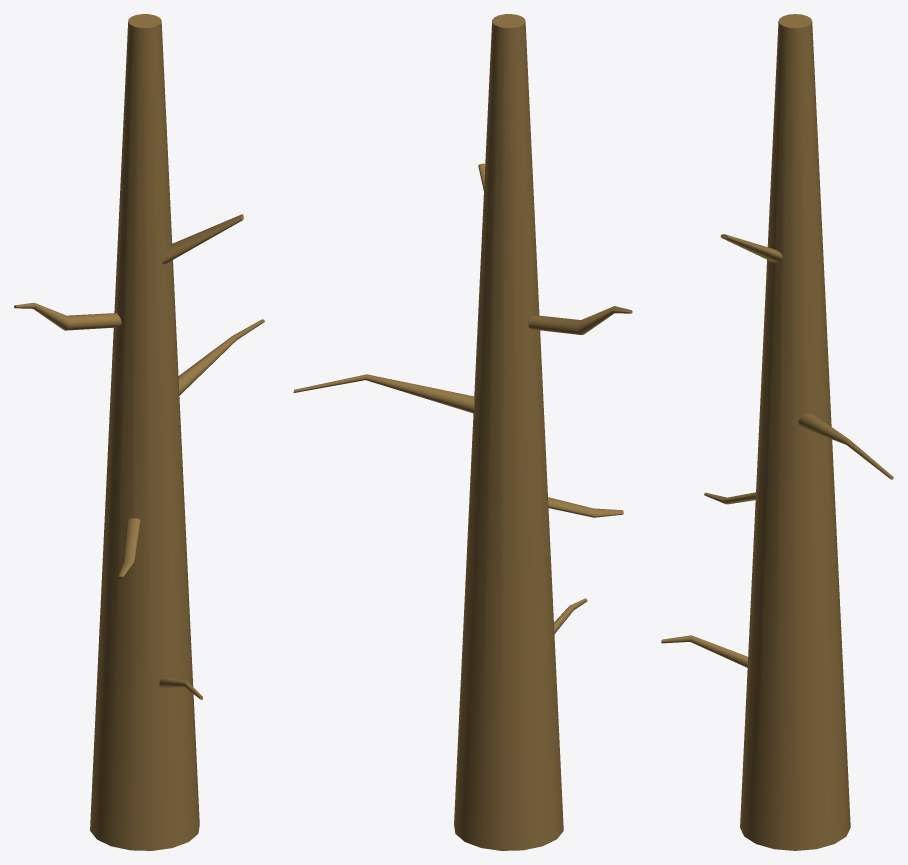
Rendered from BackgroundTree.fbx.
3 renders of one model, left to right at view 1: azimuth 30°, elevation 25°; view 2: azimuth 150°, elevation 25°; view 3: azimuth 270°, elevation 25°, orthographic.
Parts seen in each view (by area): view 1: Tree; view 2: Tree; view 3: Tree.
Part boxes in pixels (left/top/right/bottom): Tree: left=14, top=14, right=264, bottom=850; Tree: left=293, top=14, right=632, bottom=850; Tree: left=661, top=14, right=893, bottom=850.
Size of the model in its own units: 613 by 1607 by 420.
